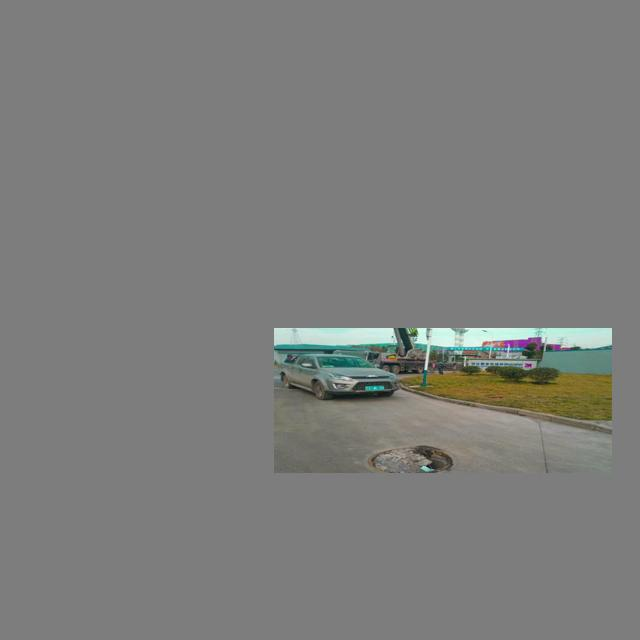broke: (370, 446, 453, 473)
